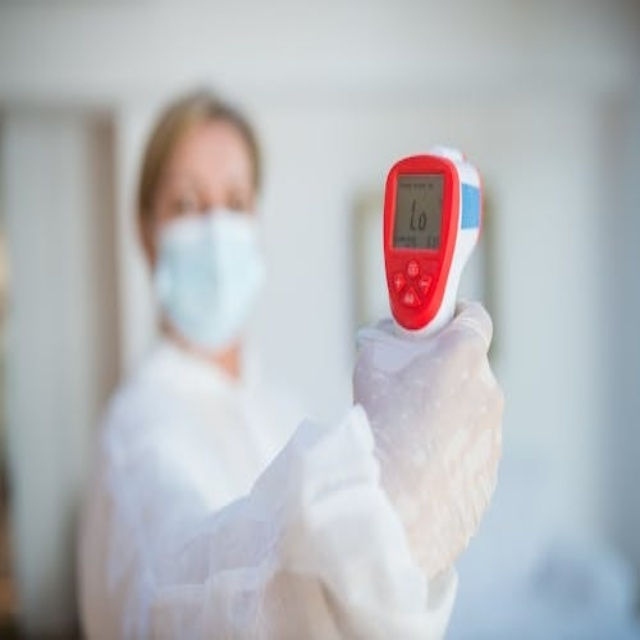Guantes: (352, 300, 505, 583)
Mascara: (152, 208, 266, 347)
